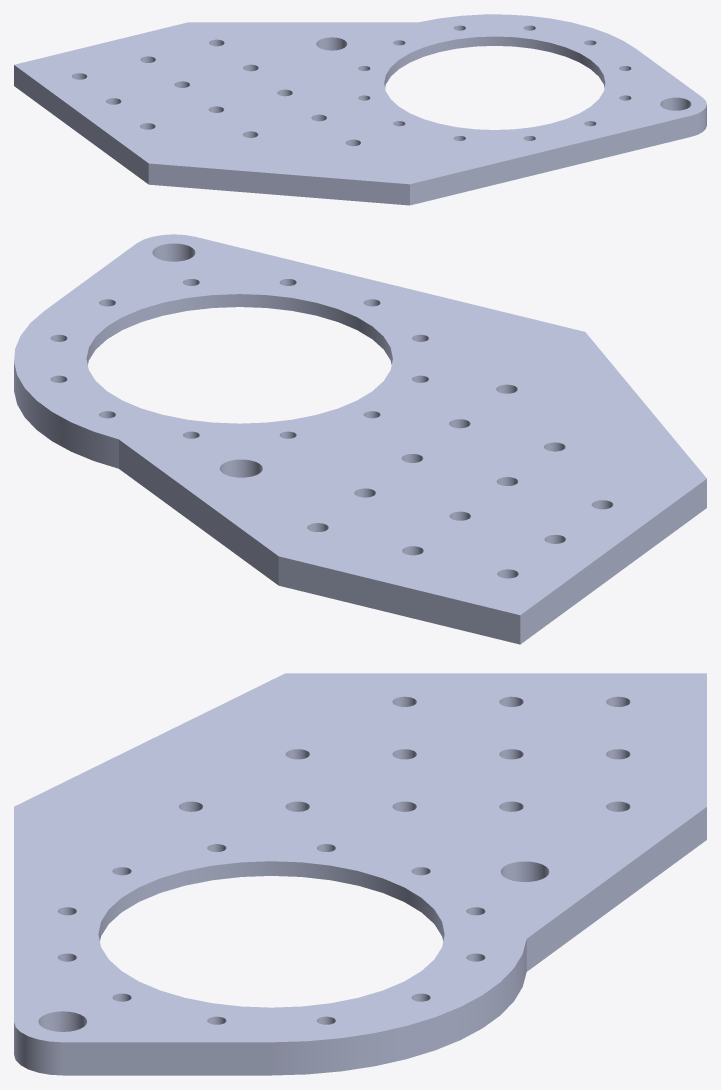
Rendered from Waist plate - left.dae.
The picture shows the model from 3 angles, top to bottom: view 1: azimuth 30°, elevation 25°; view 2: azimuth 150°, elevation 25°; view 3: azimuth 270°, elevation 25°; orthographic projection. The views are drawn at different scales.
Visible parts, largest first — view 1: Actor0; view 2: Actor0; view 3: Actor0.
Part boxes in pixels (x1,y1,x2,y2): Actor0: (14,14,706,205); Actor0: (14,234,706,644); Actor0: (14,673,706,1075).
Bounding box in the file's own units: 0.227 × 0.00953 × 0.1802.
